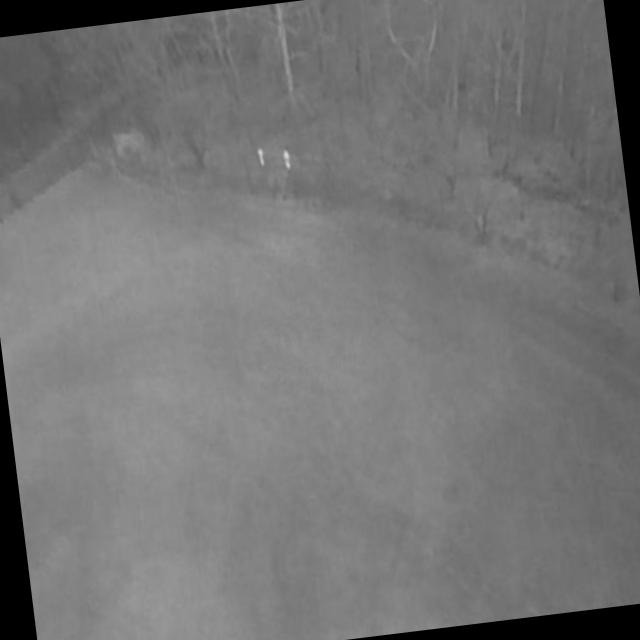person: (256, 147, 267, 168), (282, 149, 292, 171)
